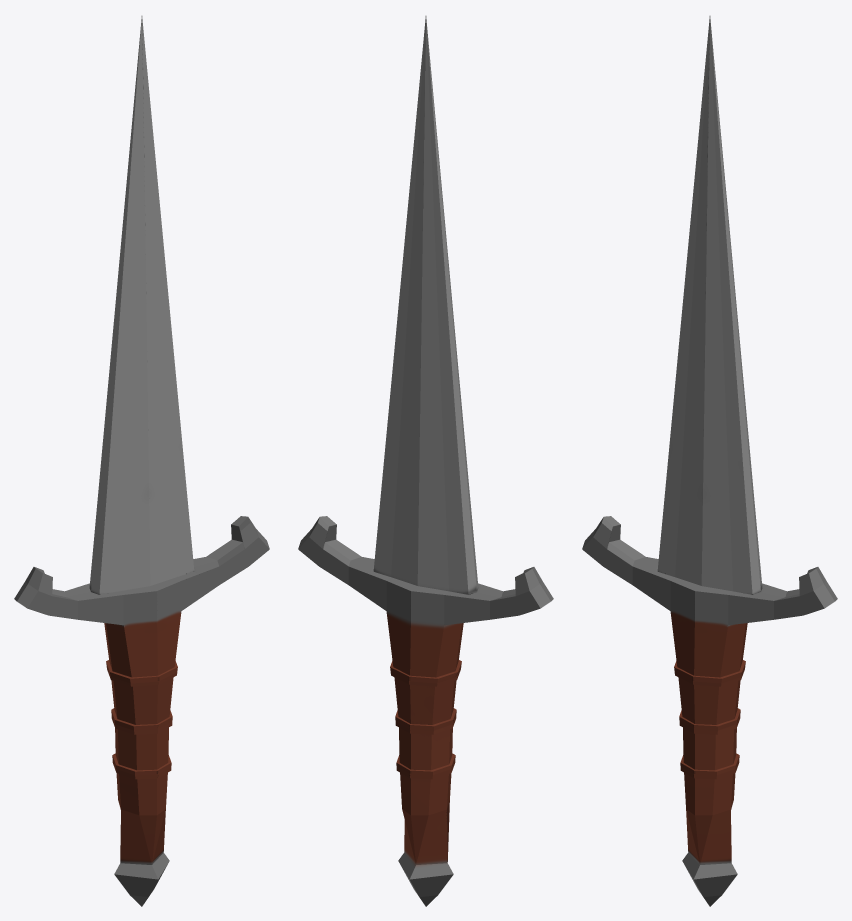
File: medieval_dagger_2.glb
3 views of the same model, side by side, from view 1: azimuth 30°, elevation 25°; view 2: azimuth 150°, elevation 25°; view 3: azimuth 330°, elevation 25° (orthographic).
Parts seen in each view (by area): view 1: Sphere; view 2: Sphere; view 3: Sphere.
Part boxes in pixels (x1,y1,x2,y2): Sphere: (14,16,269,906); Sphere: (298,16,553,906); Sphere: (582,16,837,906).
Size of the model in its own units: 3.67 by 12.53 by 0.8634.
1 material, 1 textured.
